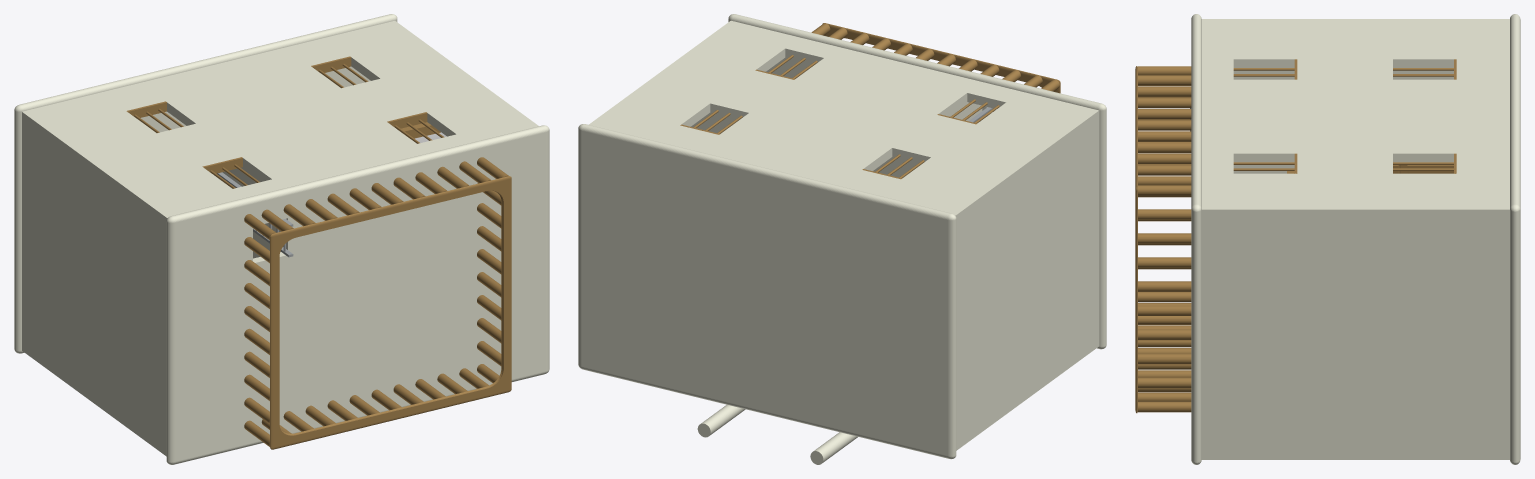
File: house10.glb
3 views of the same model, side by side, from view 1: azimuth 30°, elevation 25°; view 2: azimuth 150°, elevation 25°; view 3: azimuth 270°, elevation 25° (orthographic). The views are drawn at different scales.
Visible parts, largest first — view 1: house, roofParapet, window5, window7, window8, window6; view 2: house, roofParapet; view 3: house, roofParapet, window8, window7, window5, window6, kitchenDoor.
Part boxes in pixels (x1,y1,x2,y2): house: [14, 14, 549, 464]; roofParapet: [244, 157, 511, 449]; window5: [311, 56, 368, 88]; window7: [387, 112, 444, 143]; window8: [202, 157, 259, 188]; window6: [126, 101, 183, 132]; house: [578, 14, 1106, 464]; roofParapet: [811, 23, 1060, 93]; house: [1191, 14, 1520, 464]; roofParapet: [1135, 66, 1191, 413]; window8: [1233, 59, 1297, 79]; window7: [1233, 153, 1297, 173]; window5: [1393, 153, 1456, 173]; window6: [1393, 59, 1456, 79]; kitchenDoor: [1393, 165, 1453, 173].
Size of the model in its own units: 87 by 63.03 by 72.5.
